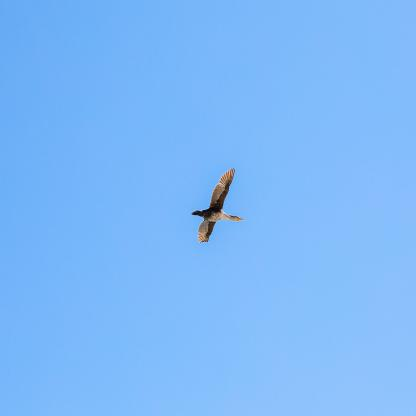bird: (191, 168, 244, 244)
